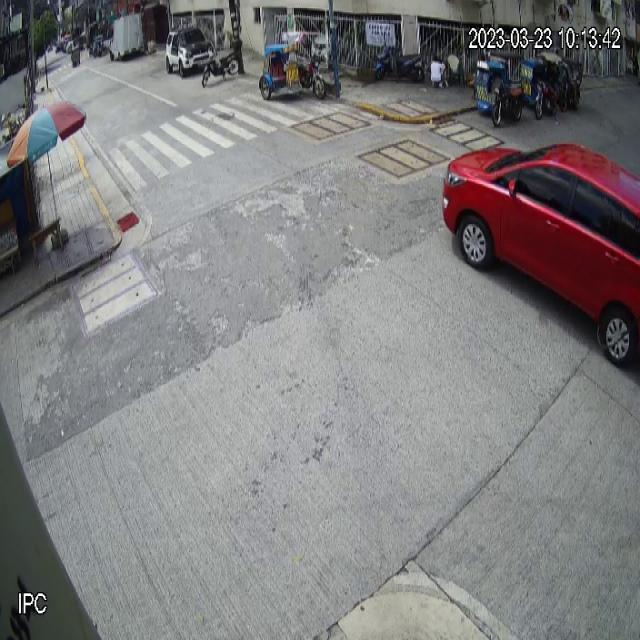Car: (442, 142, 640, 359), (166, 26, 216, 77)
Tricycle: (258, 30, 326, 101), (474, 50, 524, 128), (521, 52, 562, 121)
